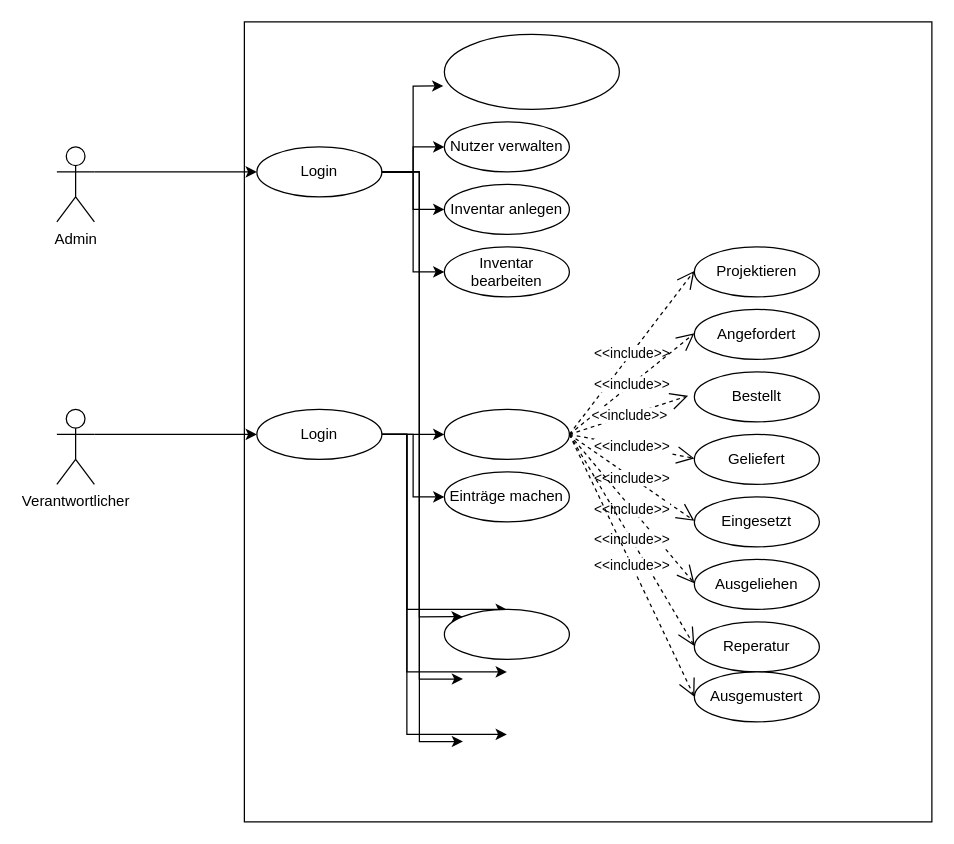
This 954x844 diagram has some shape labels left out. Here are the shapes that lost their labels. From the top down, the box of each, then its label:
(443, 33, 619, 109): Stammdaten verwalten (Abteilungen, Fächer, Gruppen, Lehrer, Orte)
(443, 408, 569, 459): Zustand ändern
(443, 608, 569, 659): Inventar anzeigen
